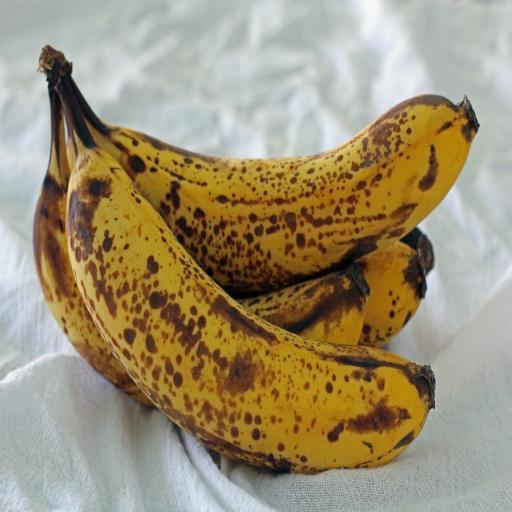banana: (56, 76, 434, 472), (72, 81, 478, 296)
